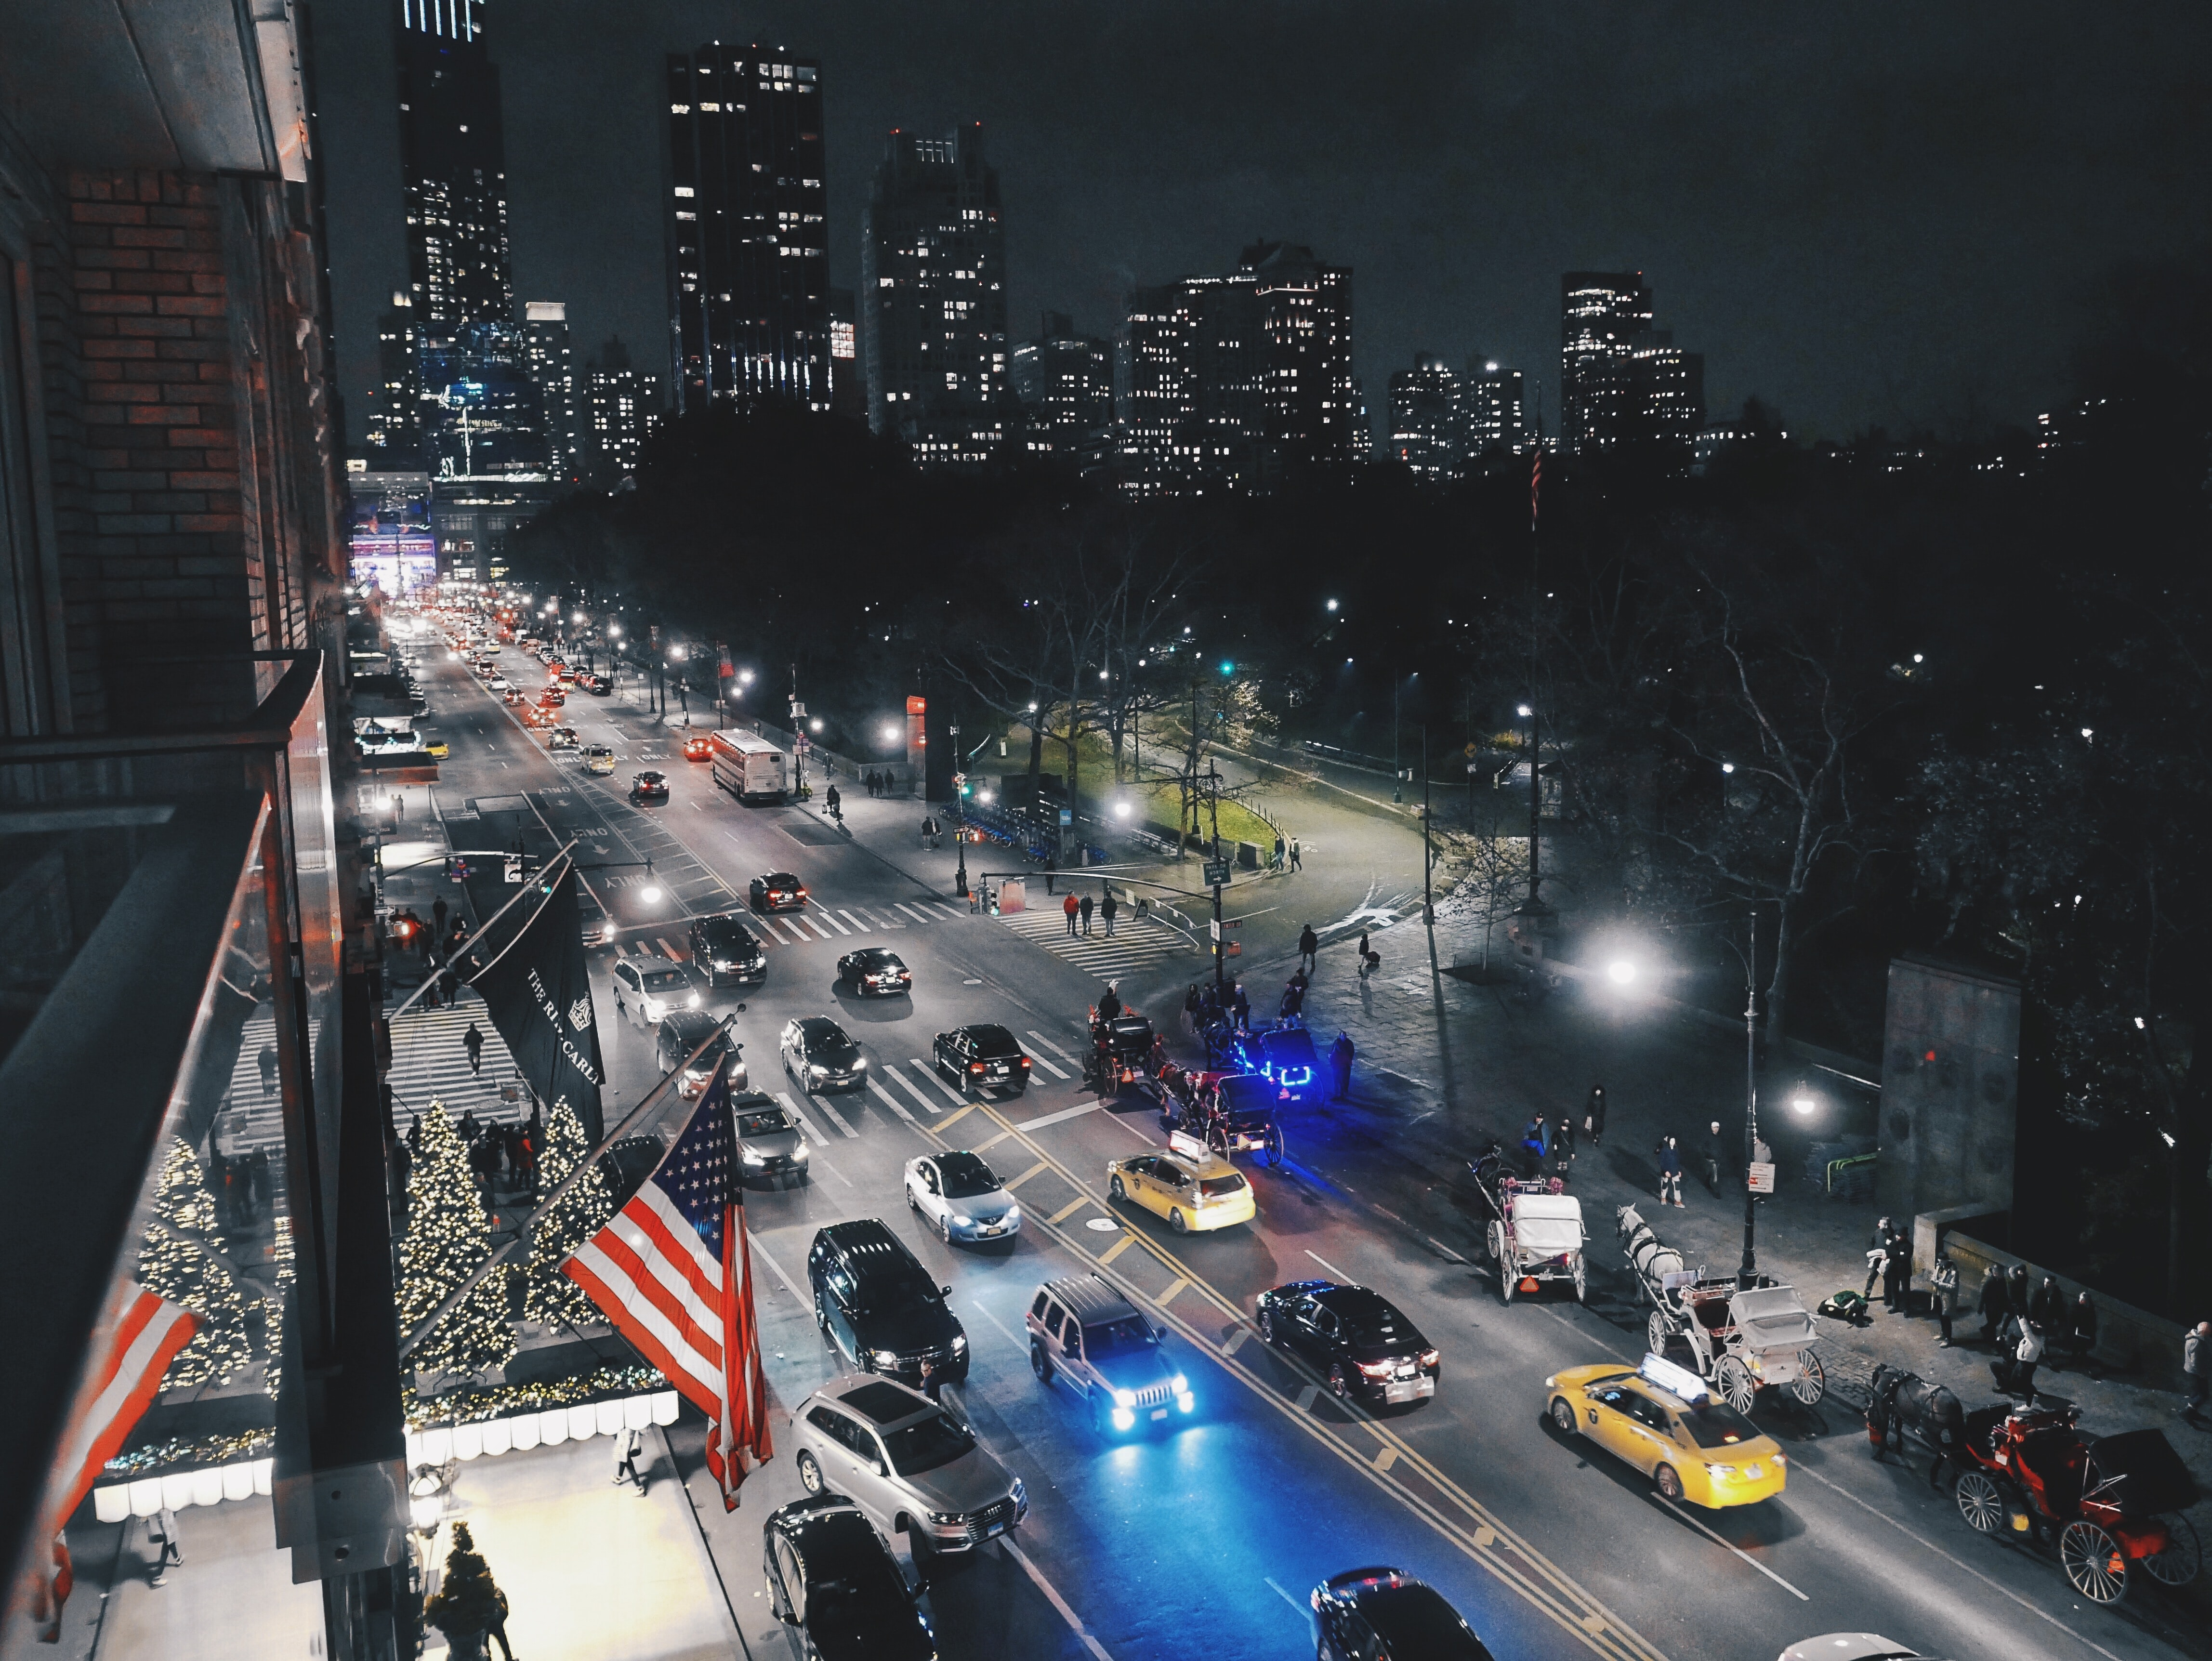Flag: (574, 1063, 783, 1521)
